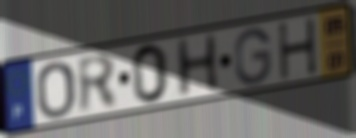0: (130, 42, 173, 107)
G: (233, 26, 273, 88)
H: (173, 31, 222, 102), (276, 15, 320, 84)
O: (35, 59, 77, 122)
R: (74, 52, 121, 117)
